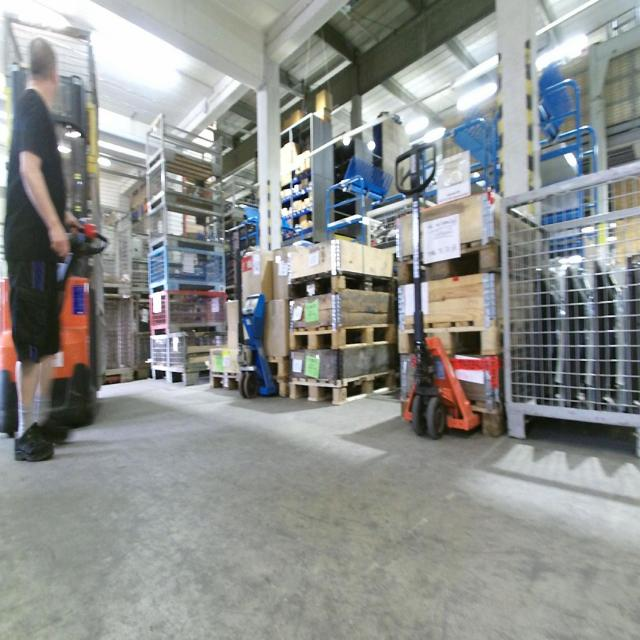pallet: (398, 237, 536, 286), (398, 318, 513, 359), (395, 397, 513, 431), (288, 369, 394, 406), (290, 319, 396, 354), (288, 268, 396, 295), (241, 348, 291, 376), (209, 365, 241, 391)
pallet_truck: (2, 55, 108, 444), (395, 139, 483, 435), (224, 215, 283, 407)
stillage: (496, 151, 639, 455), (5, 10, 102, 160), (138, 110, 227, 174), (147, 330, 231, 385), (146, 194, 225, 252), (146, 242, 228, 295), (145, 285, 229, 334), (98, 194, 135, 297), (100, 291, 135, 398), (145, 165, 226, 210), (126, 300, 160, 382), (122, 231, 152, 290)
